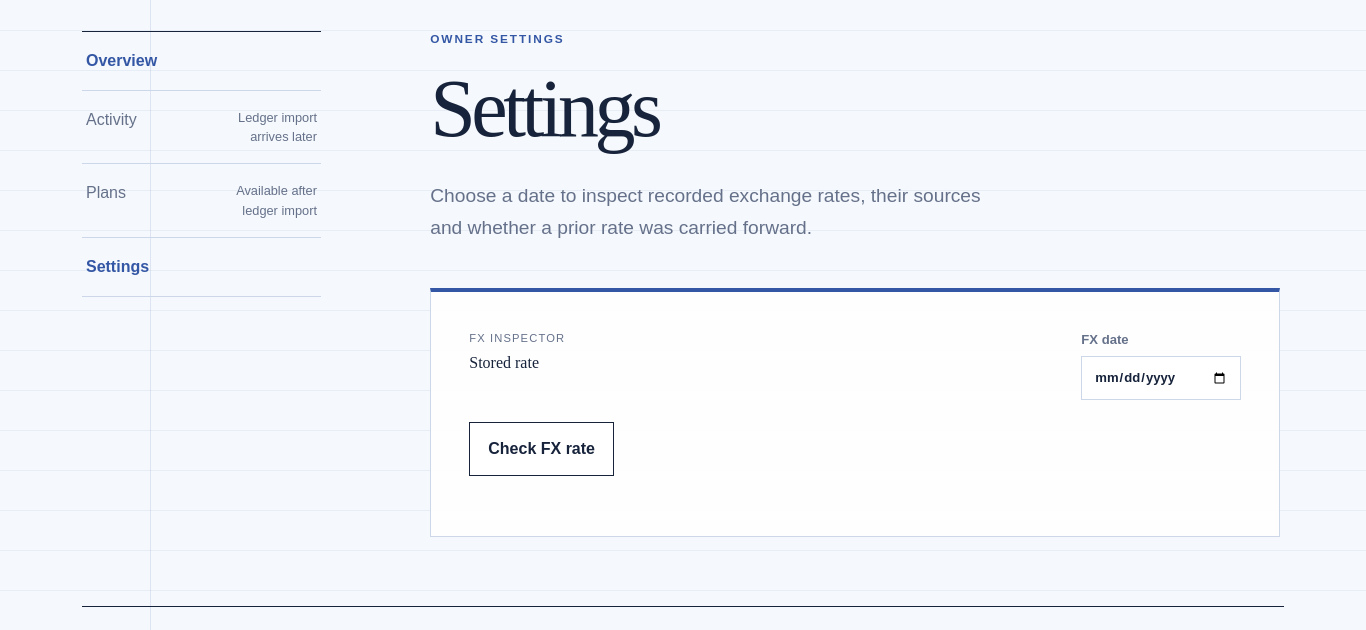
authenticated workspace › renders the Settings FX rate provenance for the requested date
Check: the heading "Settings" is shown, box [430, 63, 658, 154]
Check: the button "Check FX rate" is disabled, box [469, 422, 614, 476]
Type "2024-01-31" into the date field labelled "FX date" at (1161, 378), box [1081, 356, 1241, 400]
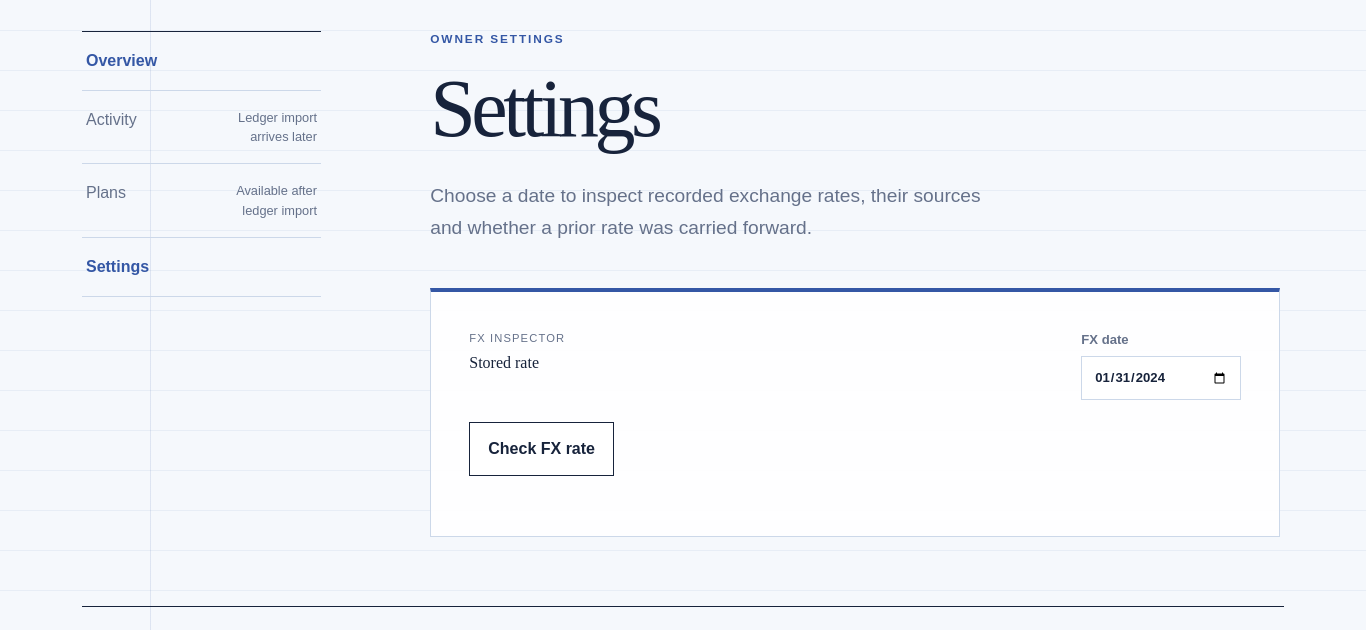
Click the button "Check FX rate" at (542, 449), box [469, 422, 614, 476]
(page scrolled)
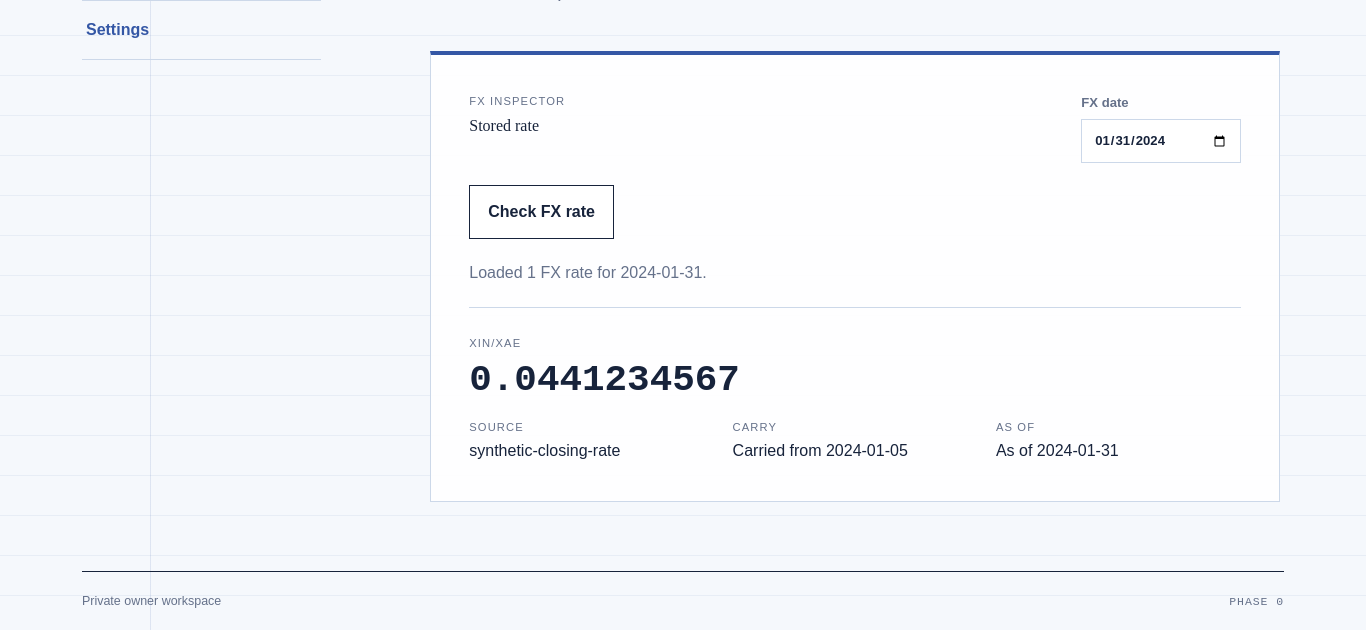
Check: the text "0.0441234567" is shown, box [469, 359, 740, 401]
Check: the text "XIN/XAE" is shown, box [469, 337, 521, 349]
Check: the text "synthetic-closing-rate" is shown, box [469, 442, 620, 459]
